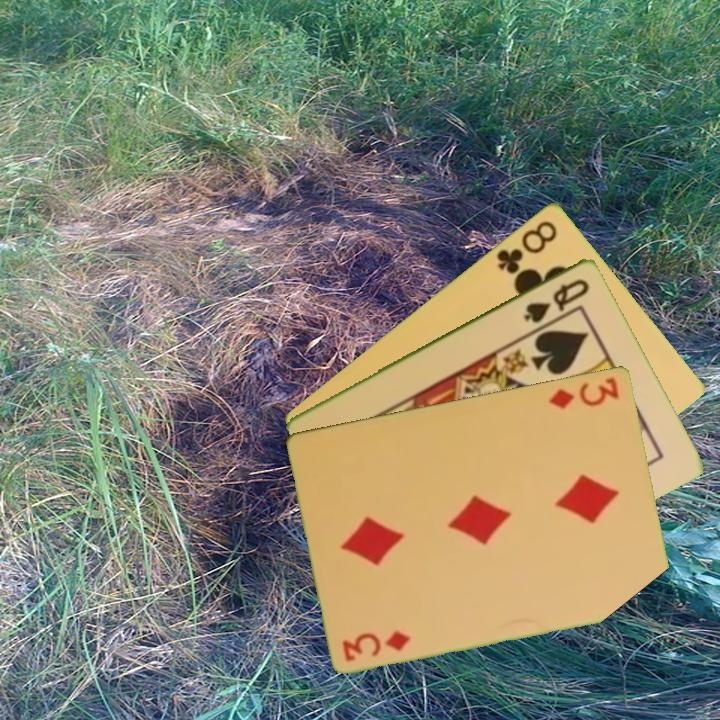3d: (545, 373, 622, 412), (339, 626, 414, 664)
8c: (493, 216, 561, 277)
Qs: (520, 274, 593, 326)
